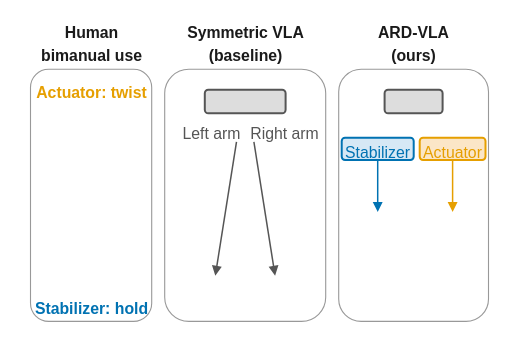
This 508x339 diagram has some shape labels left out. The centre of each missing label's shape, as x and y in pixels:
"Shared" goes at pixel 413 101.
"VLA policy" goes at pixel 244 101.
